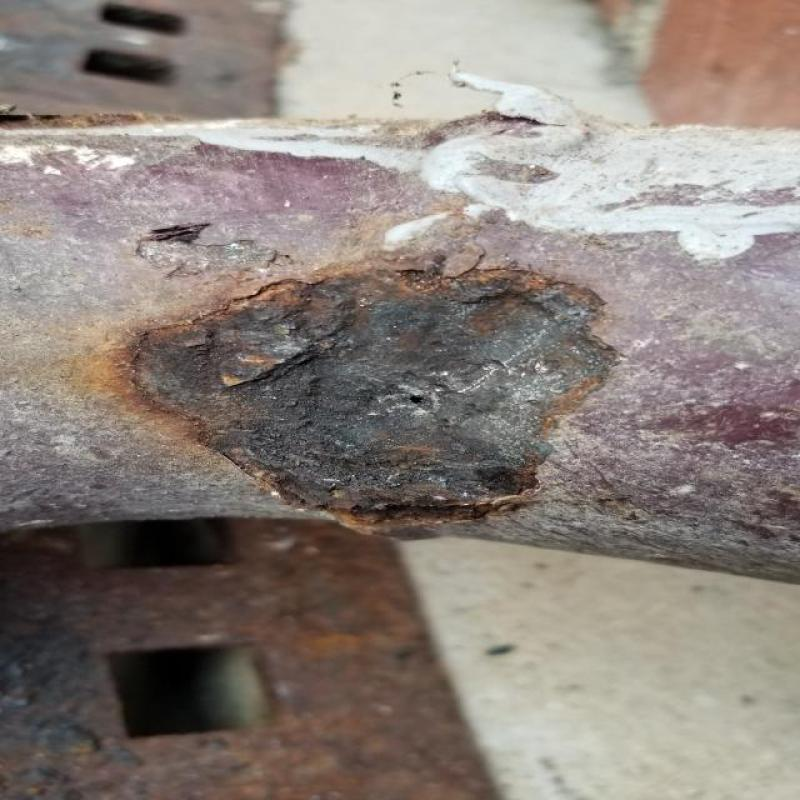corrosion: (183, 278, 635, 512)
